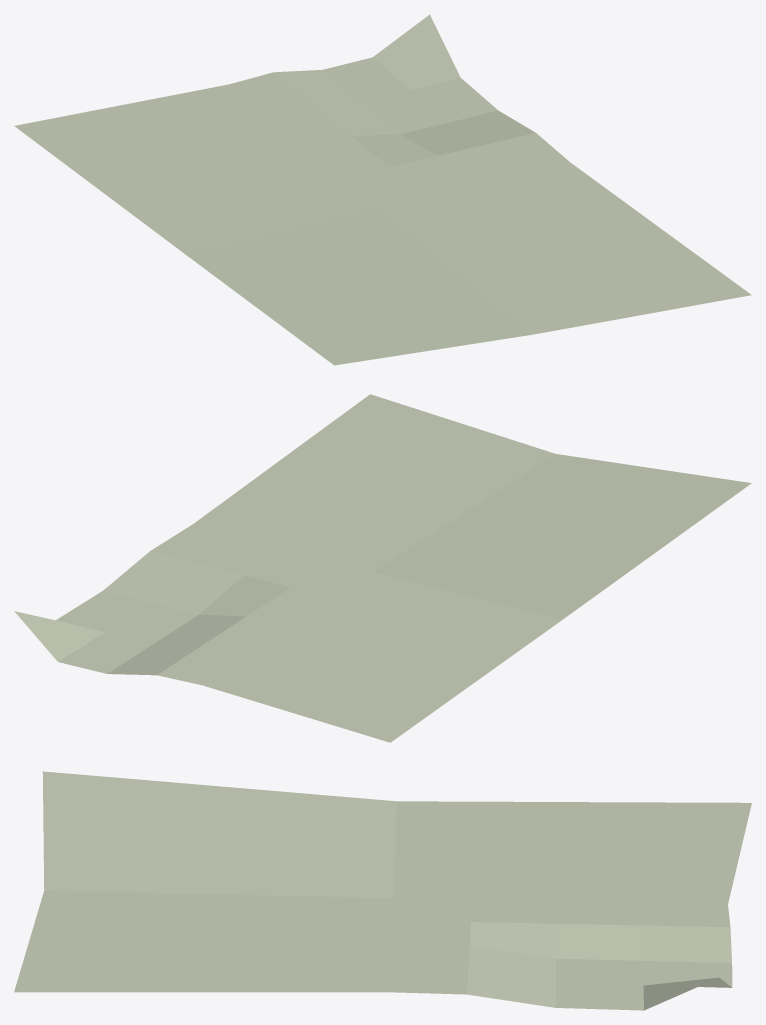
The model's file is paper second.fbx.
3 views of the same model, one above another, from view 1: azimuth 30°, elevation 25°; view 2: azimuth 150°, elevation 25°; view 3: azimuth 270°, elevation 25° (orthographic). The views are drawn at different scales.
Parts seen in each view (by area): view 1: Plane.002; view 2: Plane.002; view 3: Plane.002.
Boxes of the visible parts, x1,y1,x2,y2 form: Plane.002: (14, 14, 751, 365); Plane.002: (14, 394, 751, 742); Plane.002: (14, 771, 751, 1010).
Size of the model in its own units: 245 by 19.41 by 359.
